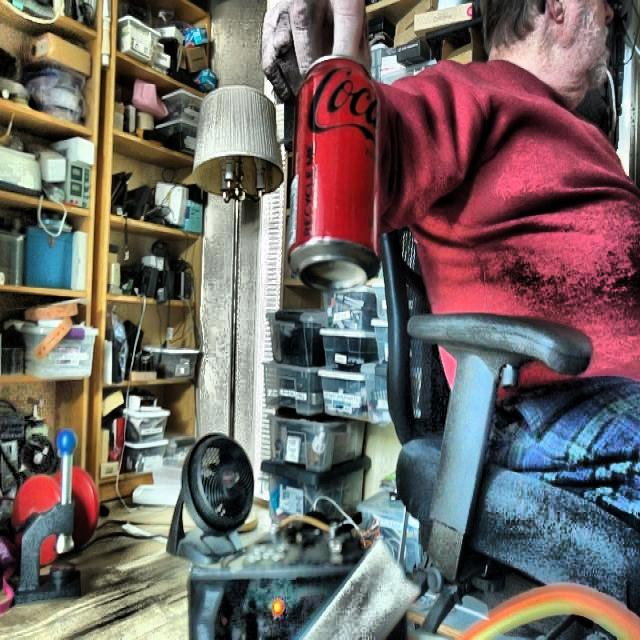CokeZero-can: (284, 54, 380, 292)
